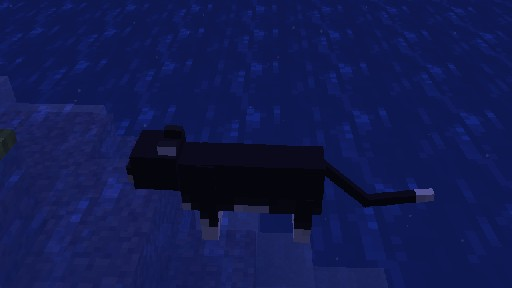cat: (125, 124, 435, 242)
